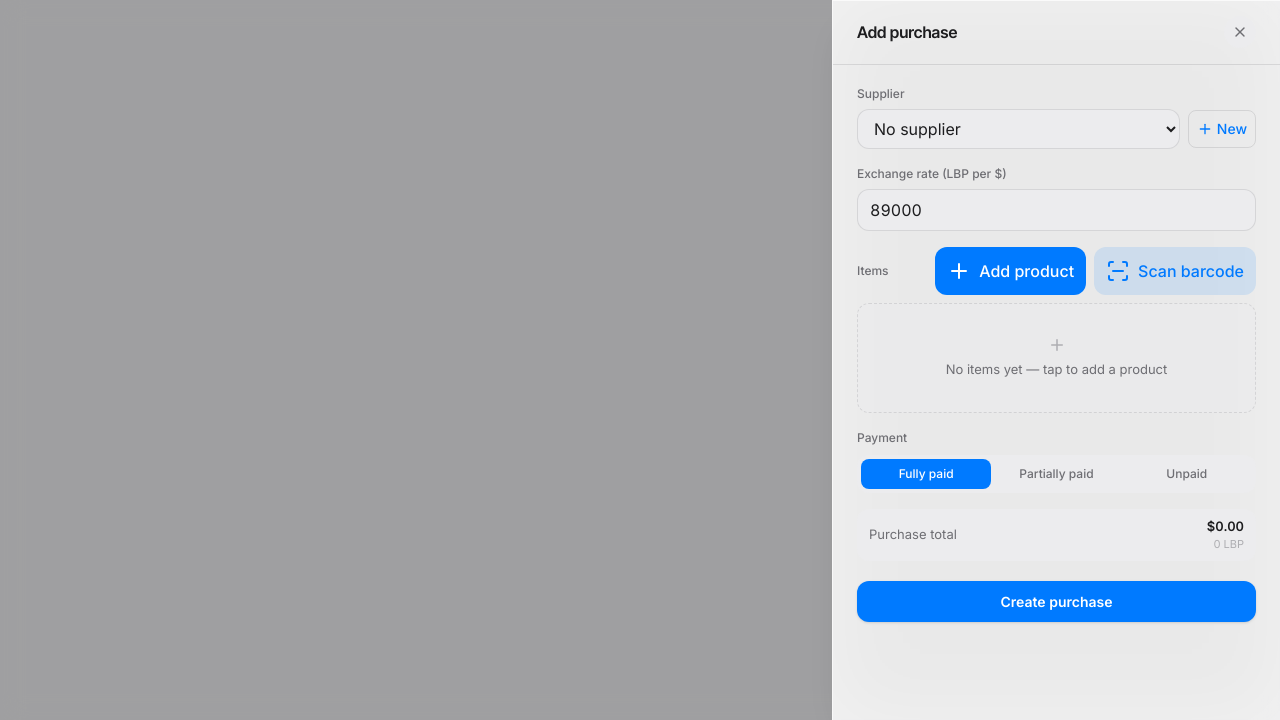
Test: PurchaseForm barcode scanning › leaves manual product search working
The image size is (1280, 720).
Click the button "Add product": (1011, 271) [935, 247, 1086, 295]
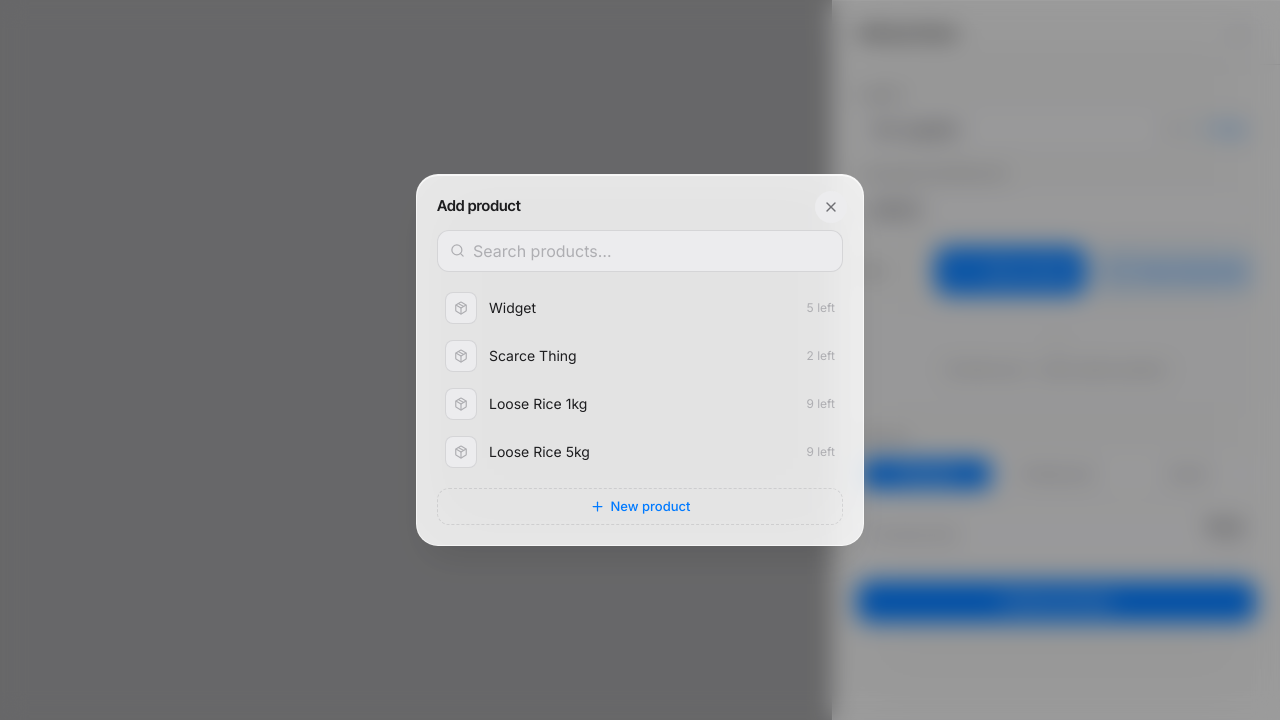
Click the button "Widget 5 left": (461, 308) [437, 284, 843, 332]
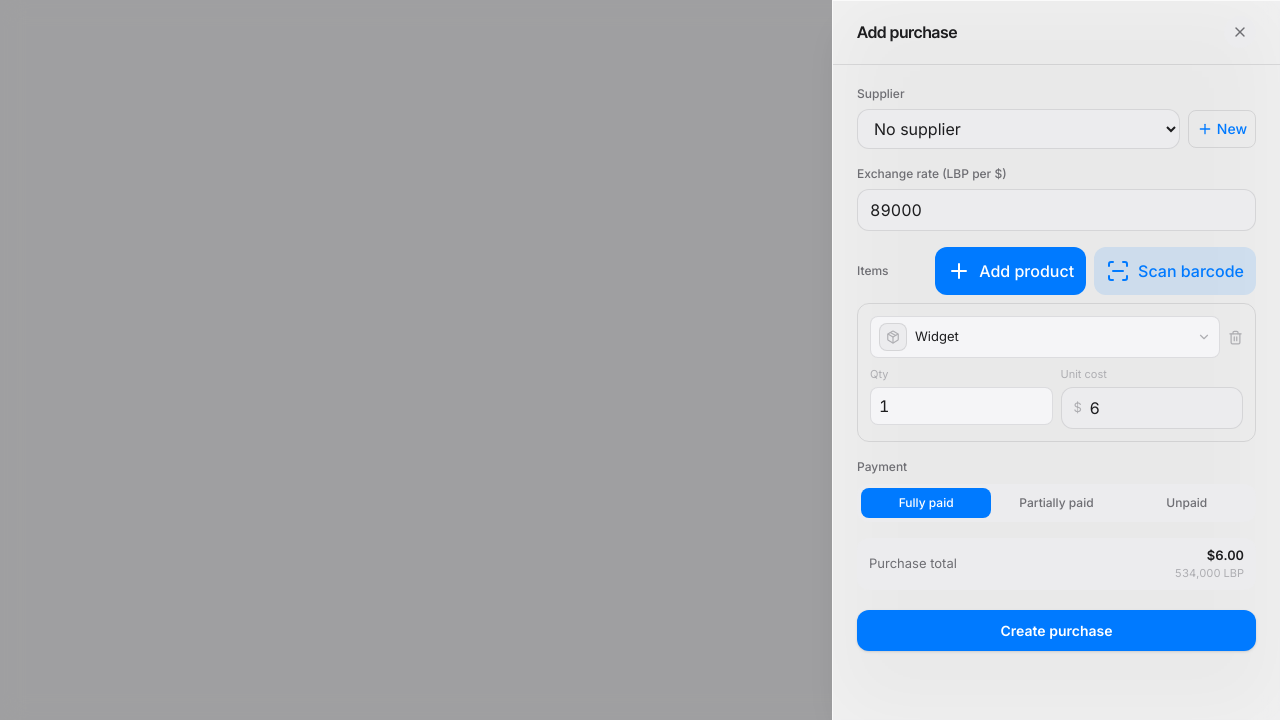
Now the 2nd number field holds "1", box [870, 386, 1052, 424]
